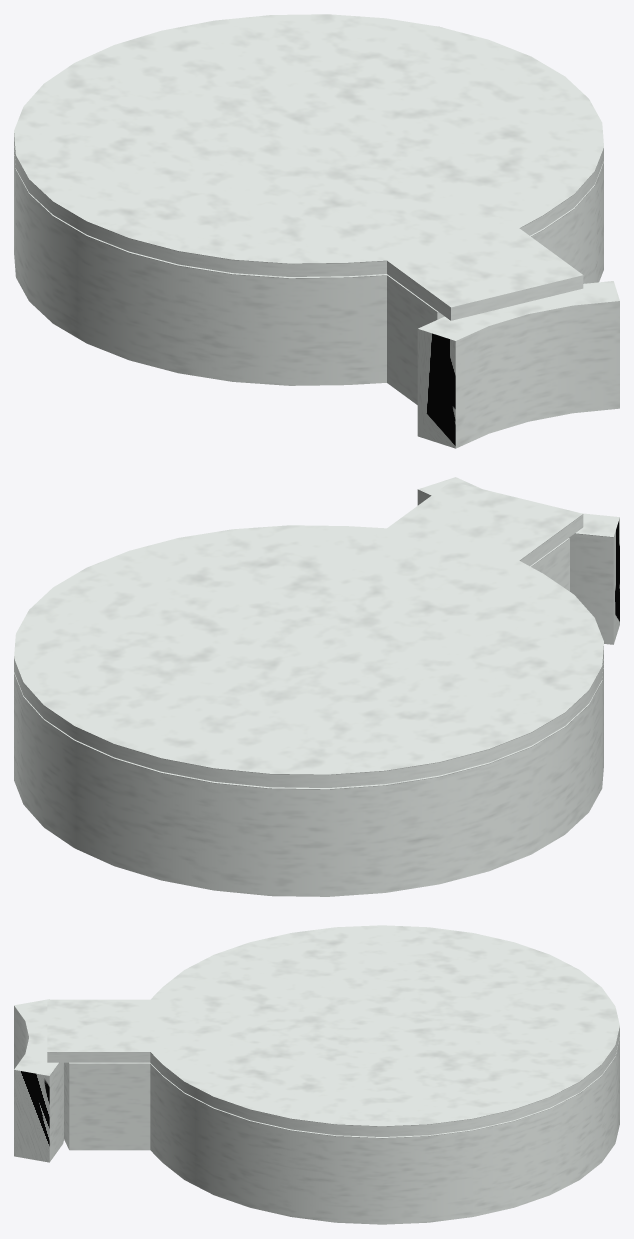
Rendered from gallery.fbx.
3 renders of one model, top to bottom at view 1: azimuth 30°, elevation 25°; view 2: azimuth 150°, elevation 25°; view 3: azimuth 270°, elevation 25°, orthographic. The views are drawn at different scales.
Visible parts, largest first — view 1: Ceiling, bigroom, WallEnd; view 2: Ceiling, bigroom, WallEnd; view 3: Ceiling, bigroom, WallEnd.
Boxes of the visible parts, x1,y1,x2,y2 form: Ceiling: (14,14,603,320); bigroom: (14,146,603,404); WallEnd: (417,281,619,448); Ceiling: (14,481,603,787); bigroom: (14,538,603,896); WallEnd: (417,477,619,644); Ceiling: (47,925,619,1136); bigroom: (64,1037,619,1224); WallEnd: (14,999,63,1162).
Bounding box in the file's own units: 5650 × 1367 × 7197.
